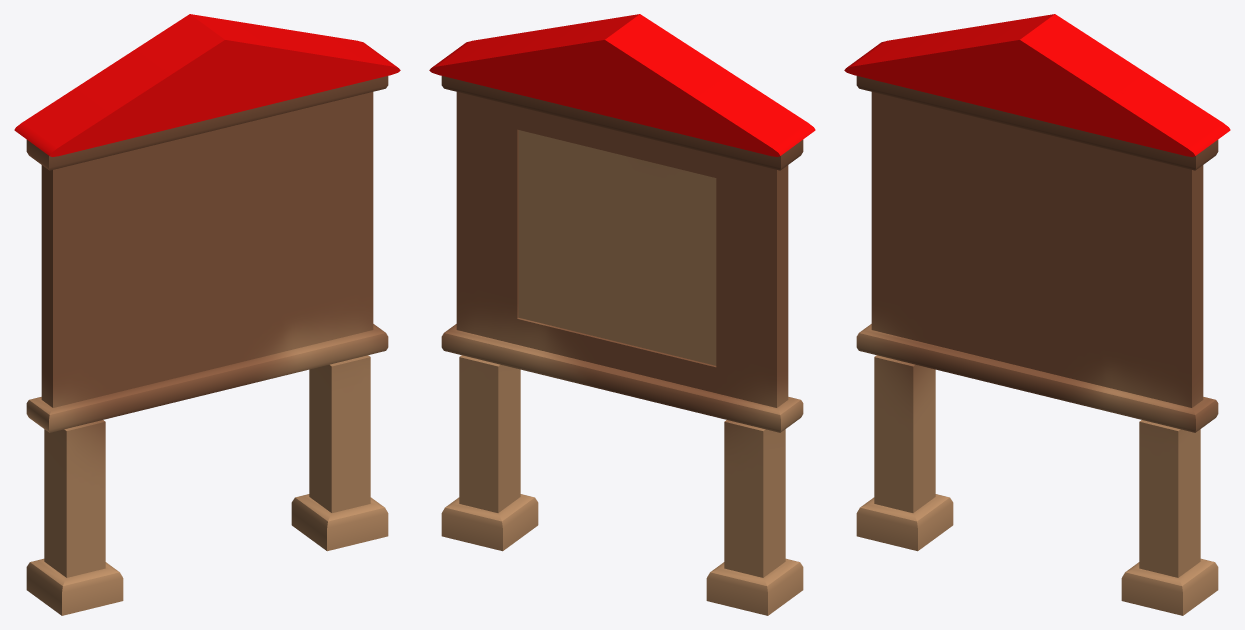
The model's file is billboard_001.fbx.
3 views of the same model, side by side, from view 1: azimuth 30°, elevation 25°; view 2: azimuth 150°, elevation 25°; view 3: azimuth 330°, elevation 25° (orthographic).
Visible parts, largest first — view 1: Cube.059; view 2: Cube.059; view 3: Cube.059.
Boxes of the visible parts, x1,y1,x2,y2 form: Cube.059: (14, 14, 400, 615); Cube.059: (429, 14, 815, 615); Cube.059: (844, 14, 1230, 615).
Size of the model in its own units: 99.8 by 146 by 17.4.
2 materials, 1 textured.
